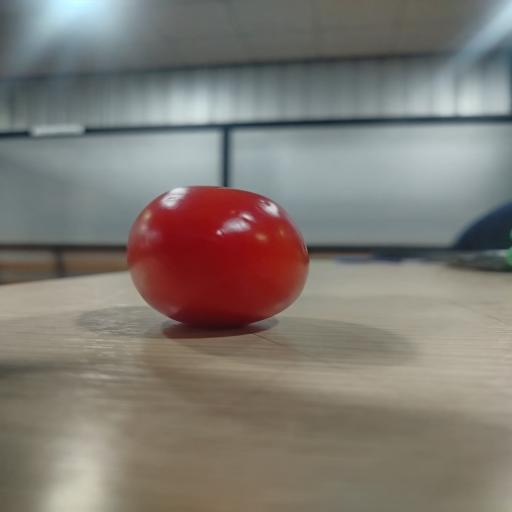ripe: (127, 186, 309, 326)
